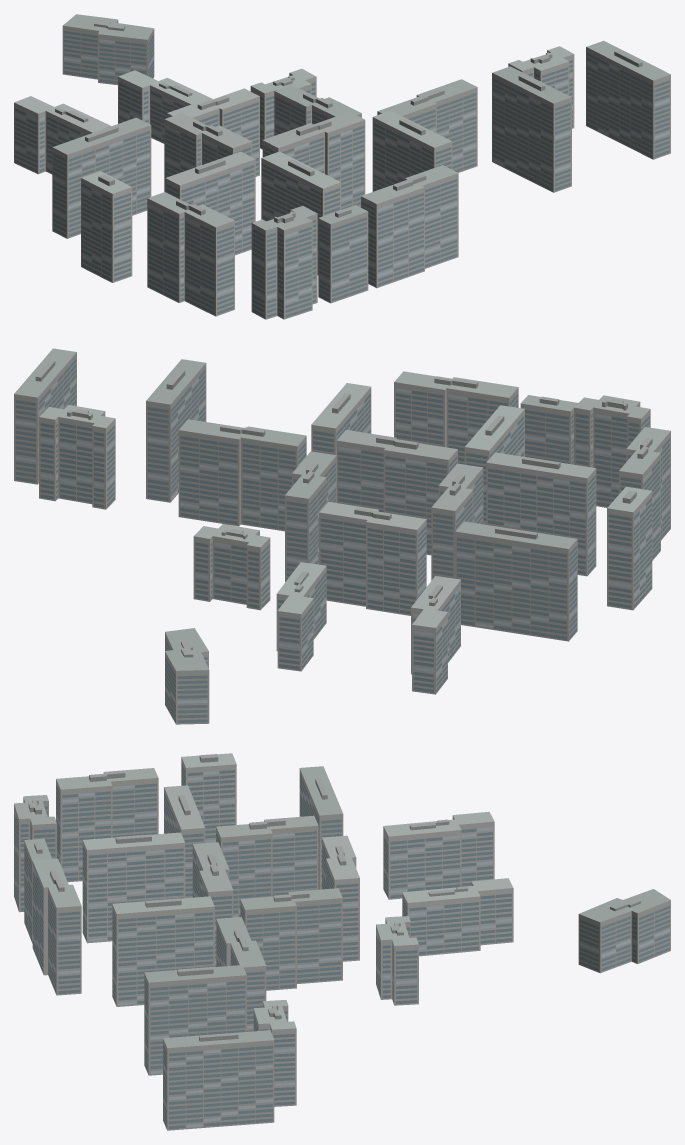
The model's file is apt-a13611006.glb.
3 renders of one model, top to bottom at view 1: azimuth 30°, elevation 25°; view 2: azimuth 150°, elevation 25°; view 3: azimuth 270°, elevation 25°, orthographic. The views are drawn at different scales.
Parts seen in each view (by area): view 1: apt-a13611006; view 2: apt-a13611006; view 3: apt-a13611006.
Part boxes in pixels (left/top/right/bottom): apt-a13611006: left=14, top=14, right=670, bottom=319; apt-a13611006: left=14, top=348, right=670, bottom=724; apt-a13611006: left=14, top=753, right=670, bottom=1130.
Size of the model in its own units: 332 by 53 by 324.
